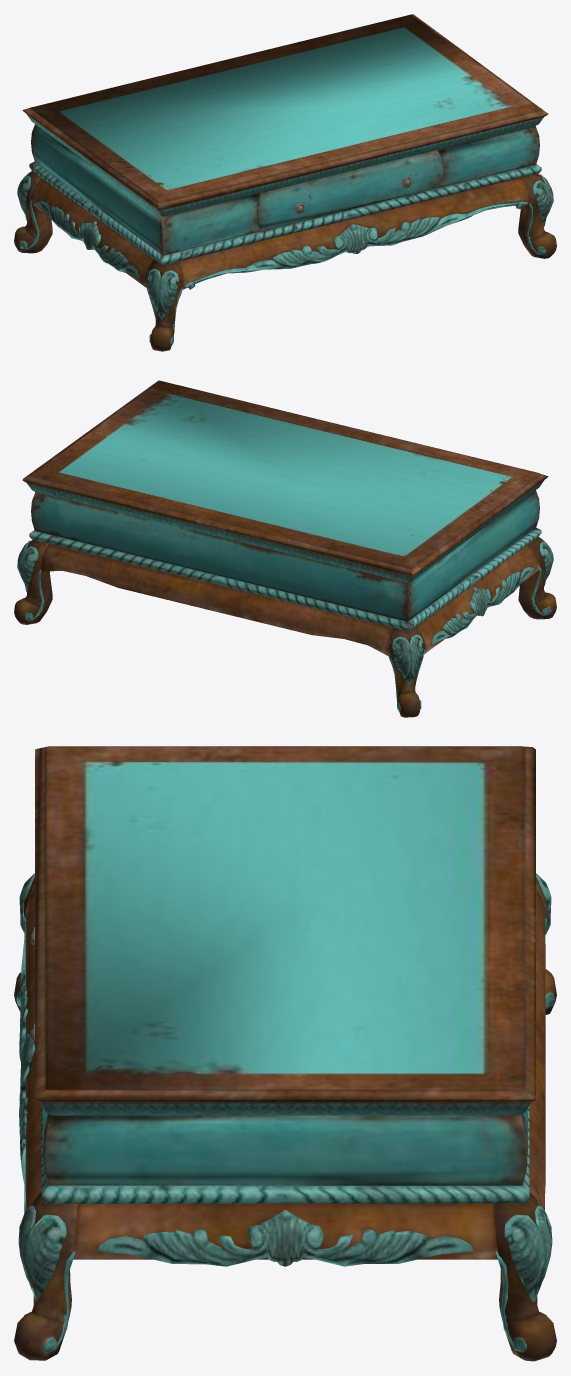
Rendered from coffeetable_01.glb.
3 renders of one model, top to bottom at view 1: azimuth 30°, elevation 25°; view 2: azimuth 150°, elevation 25°; view 3: azimuth 270°, elevation 25°, orthographic. The views are drawn at different scales.
Parts seen in each view (by area): view 1: CoffeeTable_01; view 2: CoffeeTable_01; view 3: CoffeeTable_01.
Part boxes in pixels (<box>): CoffeeTable_01: <box>14,14,556,351</box>; CoffeeTable_01: <box>14,380,556,717</box>; CoffeeTable_01: <box>14,746,556,1361</box>.
Size of the model in its own units: 1.54 by 0.5232 by 0.9728.
1 material, 1 textured.
